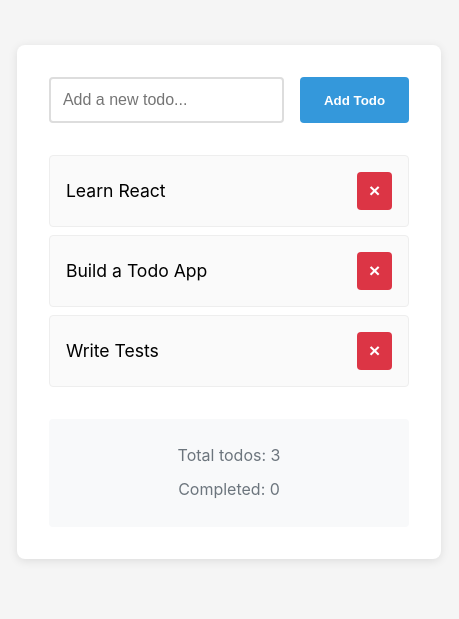
Test case: TodoList Component › adds a new todo
This screenshot has width=459, height=619.
In the field with placeholder "Add a new todo...": (166,100) [49, 77, 284, 123], type "New Test Todo"
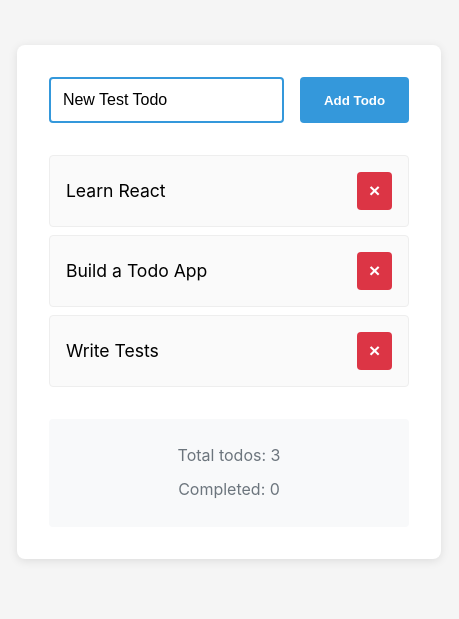
Click the button "Add Todo": (354,100) [300, 77, 409, 123]
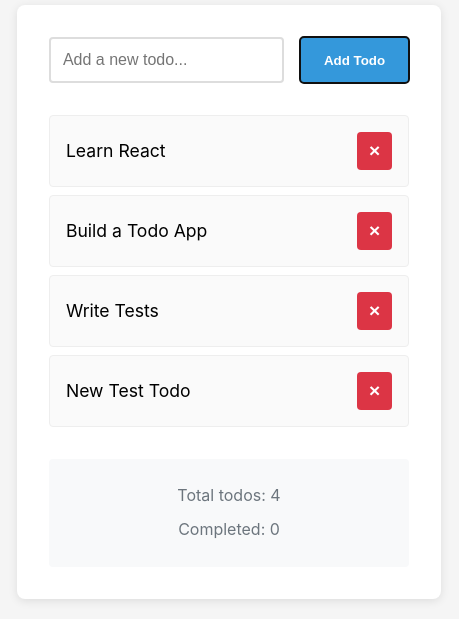
Check: the text "New Test Todo" is shown, box [66, 380, 190, 401]
Check: the number of buttons named "delete" is 4, box [357, 132, 392, 170]; [357, 212, 392, 250]; [357, 292, 392, 330]; [357, 372, 392, 410]
